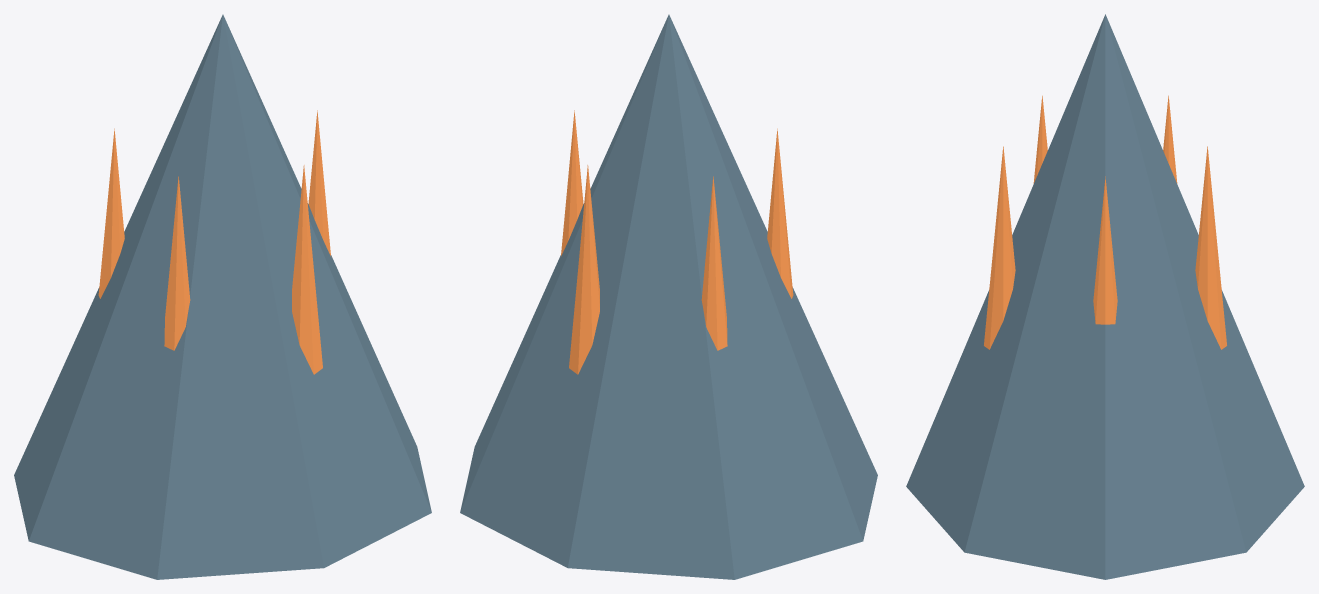
The model's file is pillar.glb.
3 views of the same model, side by side, from view 1: azimuth 30°, elevation 25°; view 2: azimuth 150°, elevation 25°; view 3: azimuth 270°, elevation 25° (orthographic).
Visible parts, largest first — view 1: pillar; view 2: pillar; view 3: pillar.
Boxes of the visible parts, left/top/right/bottom form: pillar: left=14, top=14, right=431, bottom=579; pillar: left=460, top=14, right=877, bottom=579; pillar: left=906, top=14, right=1304, bottom=579.
Size of the model in its own units: 1.44 by 1.78 by 1.3.
